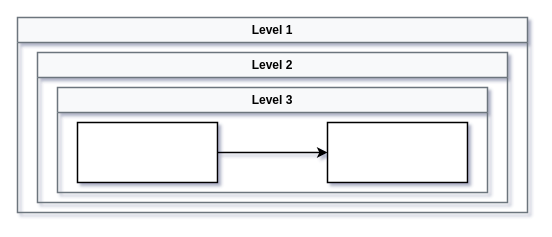
Image size: 552x237. Some labels were removed from this diagram. The shapes that lost their labels are listed below. From the top down, each one's box as (x1, y1, x2, y2) in pixels, then its label:
(76, 121, 218, 183): Root Node
(326, 121, 468, 183): Leaf Node
